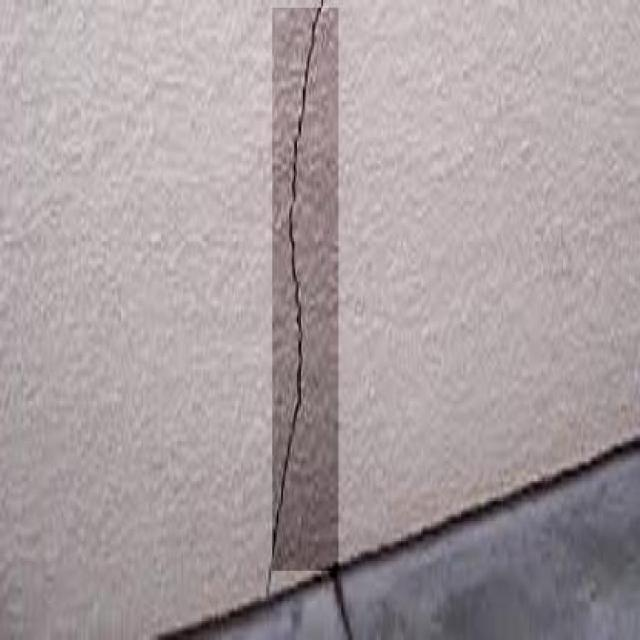Crack: (249, 1, 354, 631)
